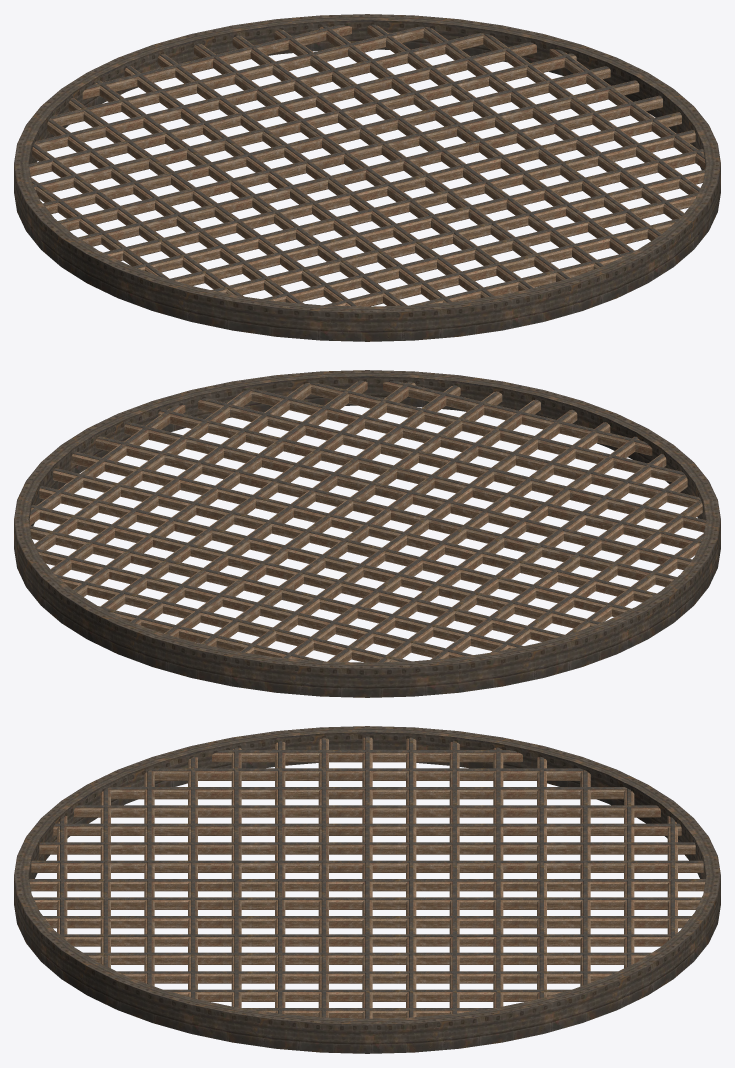
3 views of the same model, one above another, from view 1: azimuth 30°, elevation 25°; view 2: azimuth 150°, elevation 25°; view 3: azimuth 270°, elevation 25° (orthographic).
Parts seen in each view (by area): view 1: SM_DR_Sinkhole_Grate_01_LOD0; view 2: SM_DR_Sinkhole_Grate_01_LOD0; view 3: SM_DR_Sinkhole_Grate_01_LOD0.
Boxes of the visible parts, x1,y1,x2,y2 form: SM_DR_Sinkhole_Grate_01_LOD0: (14,14,720,341); SM_DR_Sinkhole_Grate_01_LOD0: (14,370,720,697); SM_DR_Sinkhole_Grate_01_LOD0: (14,726,720,1053).
Bounding box in the file's own units: 12 × 0.5435 × 12.
3 materials, 3 textured.
